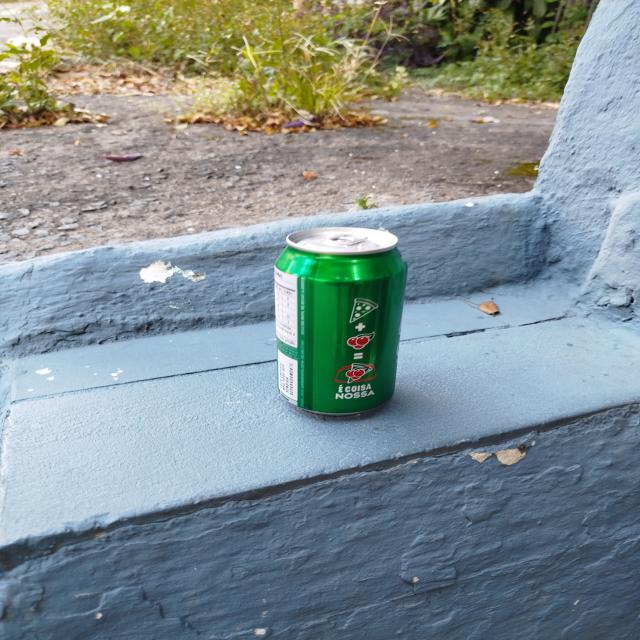Guarana: (277, 228, 409, 414)
